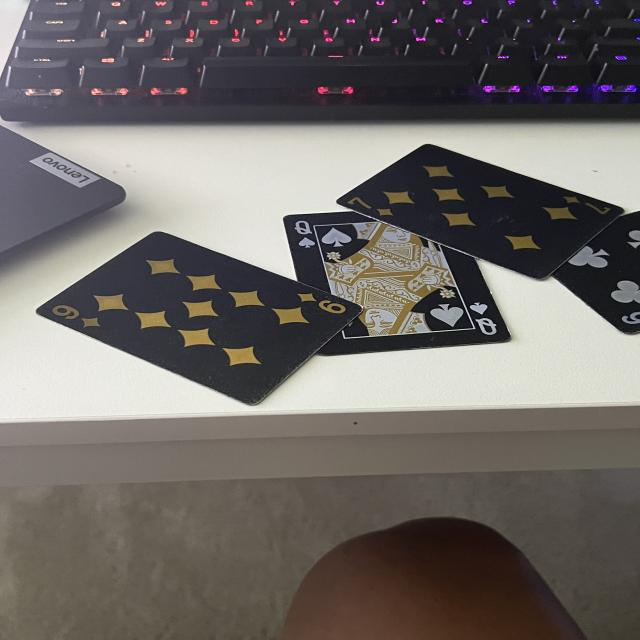7D: (564, 191, 616, 215), (346, 196, 396, 219)
9D: (48, 305, 111, 331), (293, 291, 348, 318)
QS: (465, 299, 504, 339), (293, 221, 317, 251)
